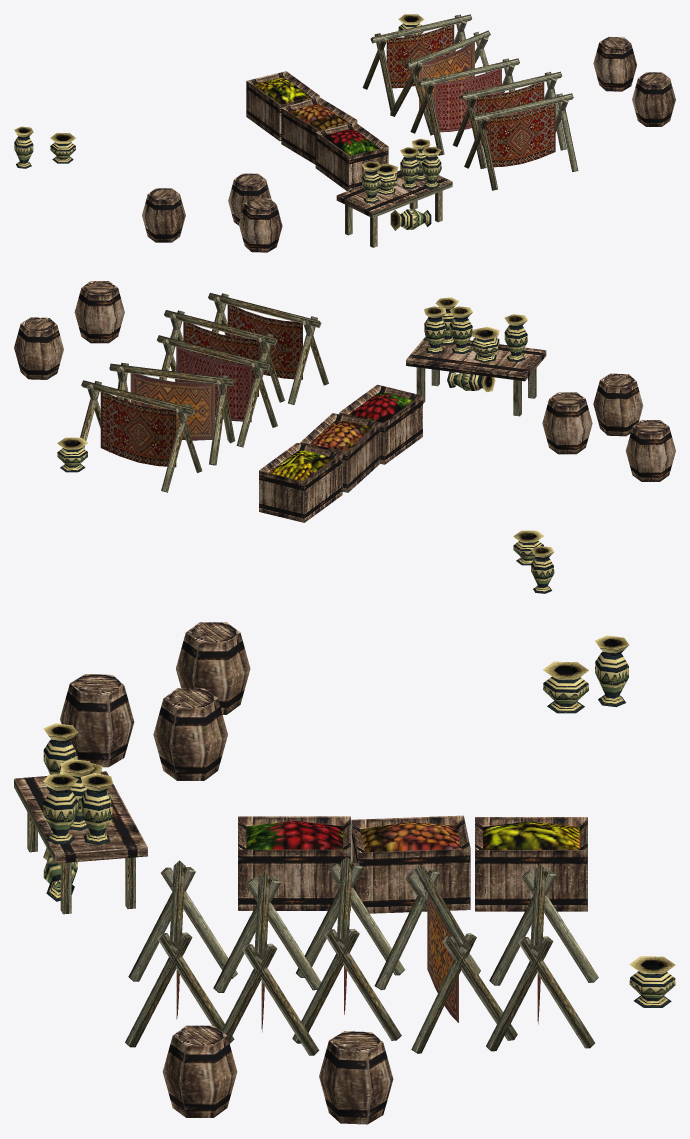
The model's file is kart_market_b.dae.
3 views of the same model, one above another, from view 1: azimuth 30°, elevation 25°; view 2: azimuth 150°, elevation 25°; view 3: azimuth 270°, elevation 25° (orthographic). The views are drawn at different scales.
Visible parts, largest first — view 1: Object1018-Pivot; view 2: Object1018-Pivot; view 3: Object1018-Pivot.
Part boxes in pixels (<box>): Object1018-Pivot: <box>14,14,675,252</box>; Object1018-Pivot: <box>14,281,675,593</box>; Object1018-Pivot: <box>14,622,675,1124</box>.
Bounding box in the file's own units: 24.75 × 15.4 × 3.35.
